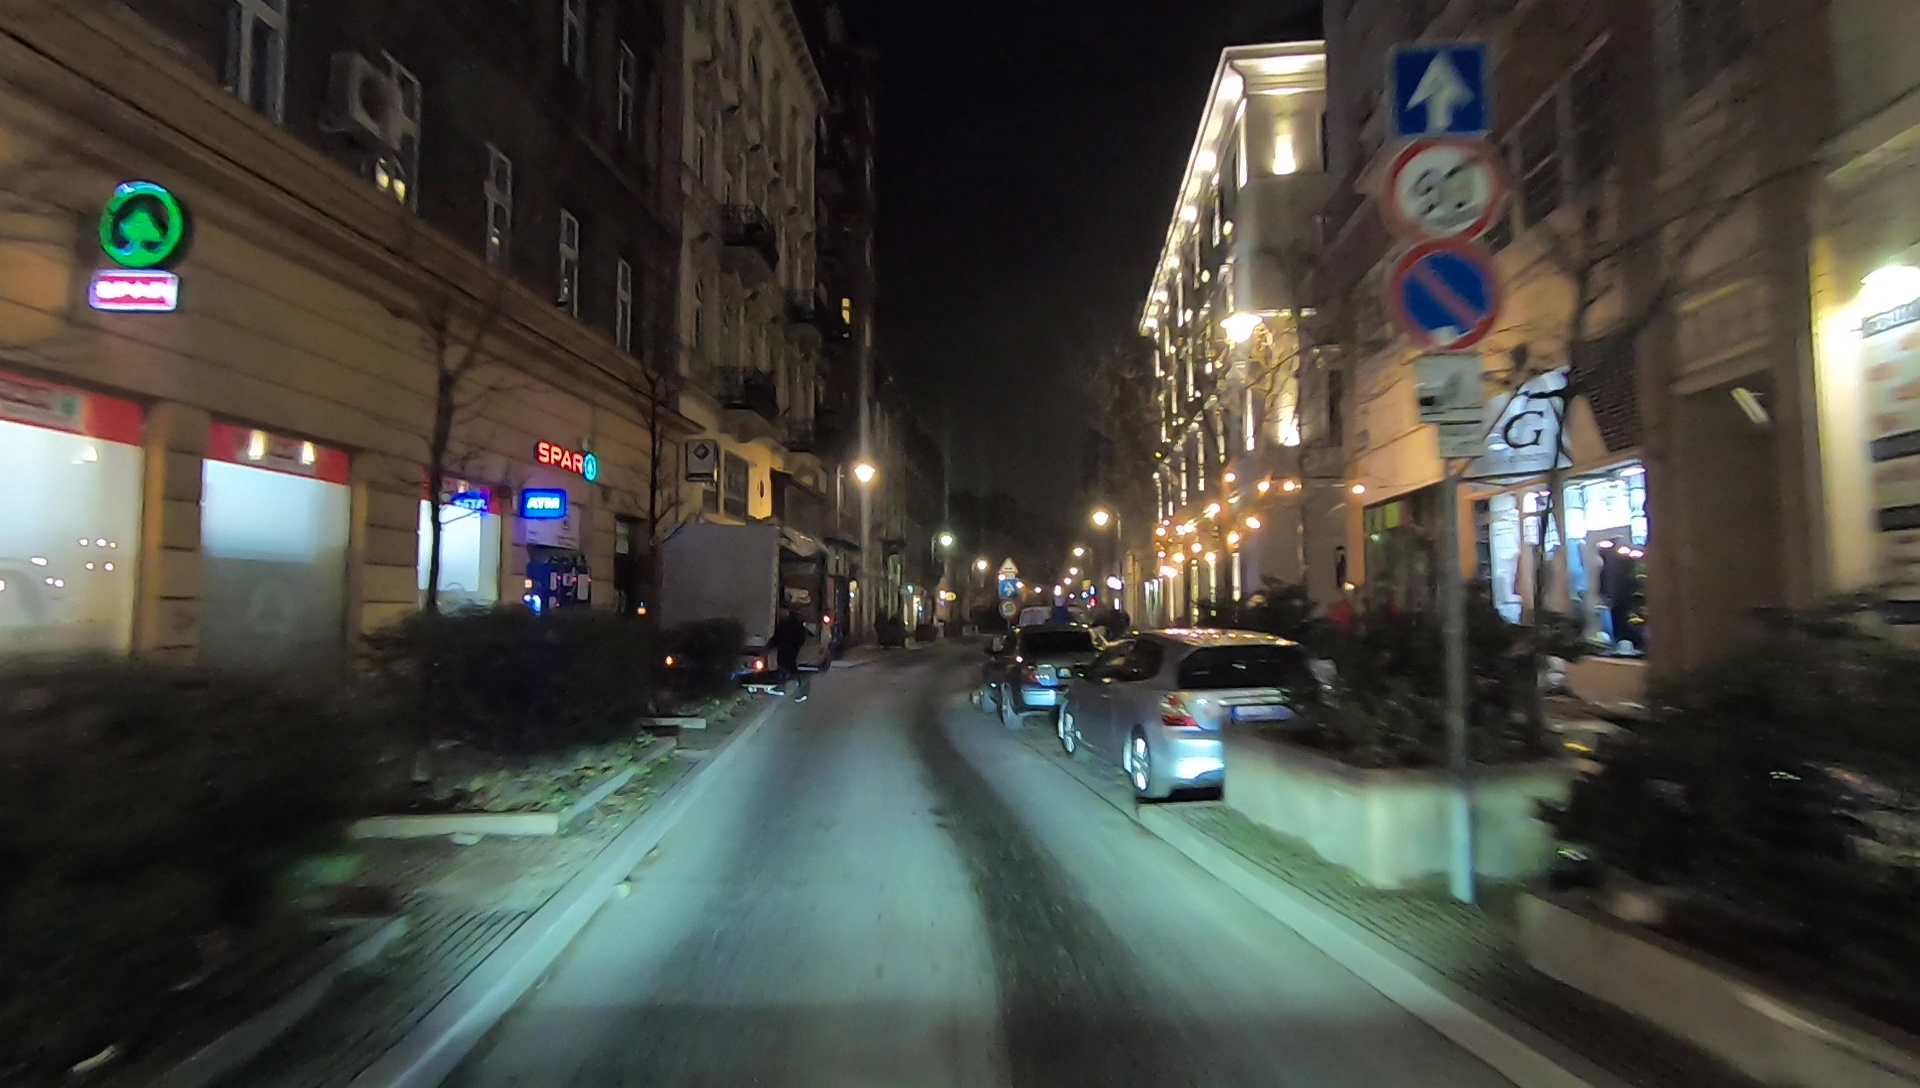person: (767, 606, 810, 700)
